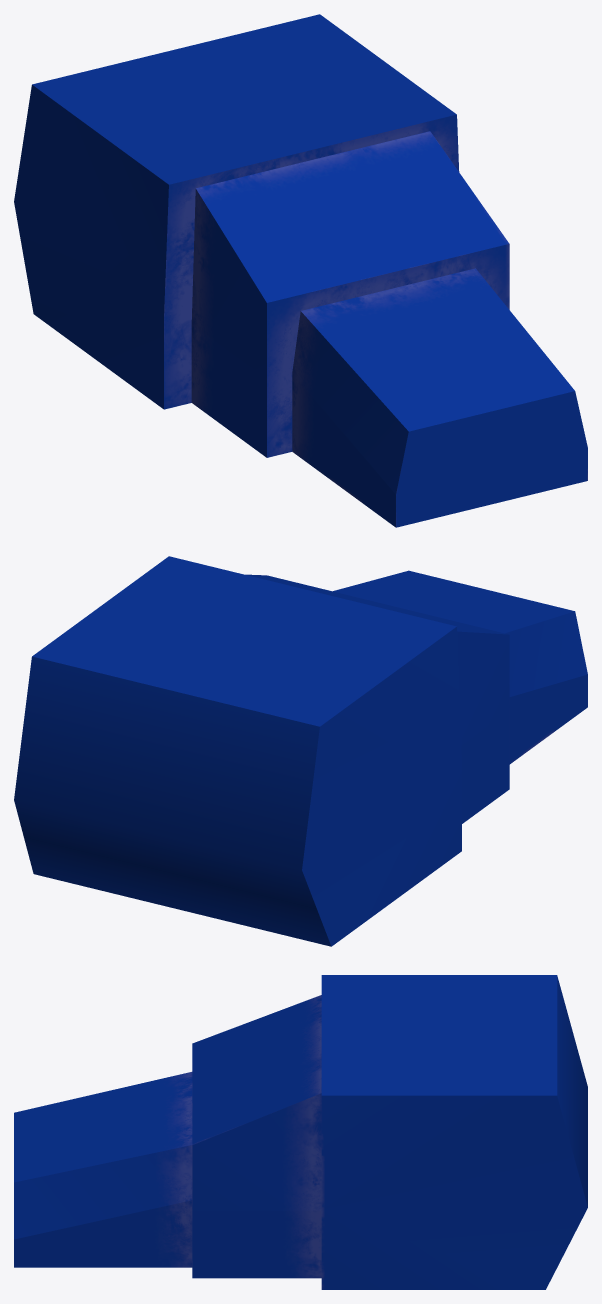
The model's file is R_FootO.obj.
3 views of the same model, one above another, from view 1: azimuth 30°, elevation 25°; view 2: azimuth 150°, elevation 25°; view 3: azimuth 270°, elevation 25° (orthographic). The views are drawn at different scales.
Parts seen in each view (by area): view 1: L_FootO:group7 L_FootO:pCube71 L_FootO:polySurface1; view 2: L_FootO:group7 L_FootO:pCube71 L_FootO:polySurface1; view 3: L_FootO:group7 L_FootO:pCube71 L_FootO:polySurface1.
Part boxes in pixels (left/top/right/bottom): L_FootO:group7 L_FootO:pCube71 L_FootO:polySurface1: left=14, top=14, right=587, bottom=527; L_FootO:group7 L_FootO:pCube71 L_FootO:polySurface1: left=14, top=556, right=587, bottom=946; L_FootO:group7 L_FootO:pCube71 L_FootO:polySurface1: left=14, top=975, right=587, bottom=1289.
Bounding box in the file's own units: 1 × 0.7173 × 1.94.
1 material, 1 textured.
